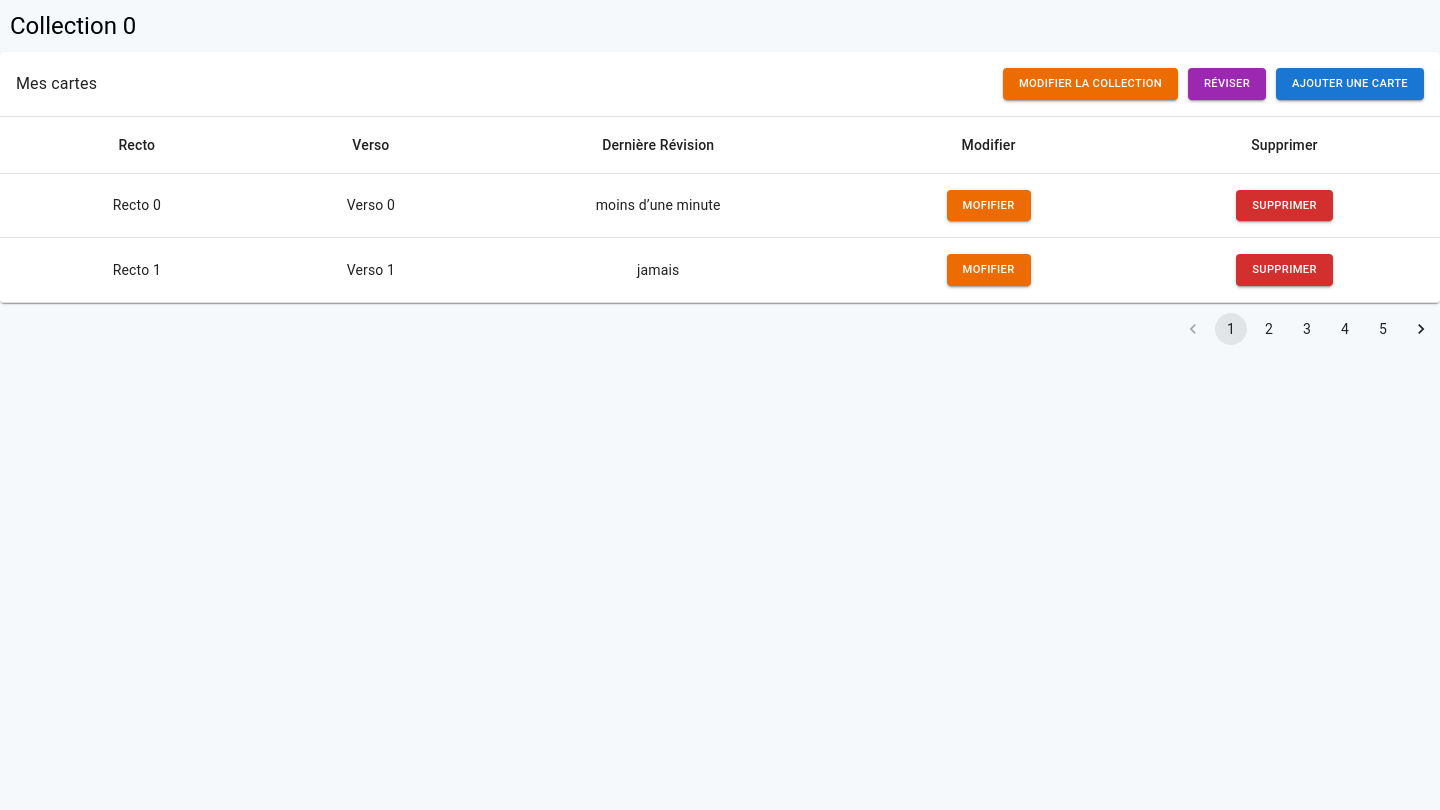
CollectionDetailContent › Tests that clicking adding a card button open the modal
The image size is (1440, 810).
Step 1. Click the button with test id "create-card-button" → (1350, 84), box top-left (1276, 68), bottom-right (1424, 100)
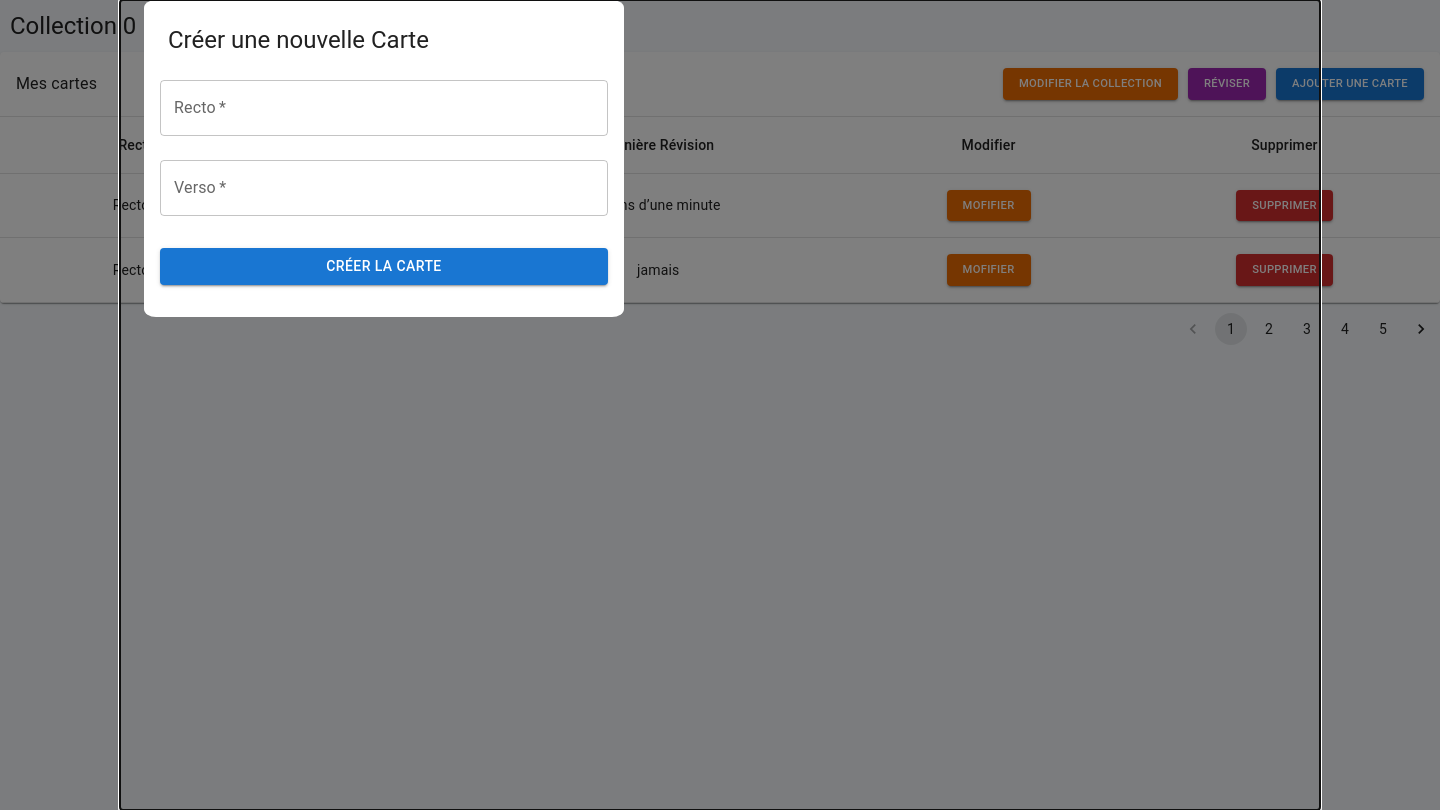
Expected: the element with test id "create-card-modal" is shown
